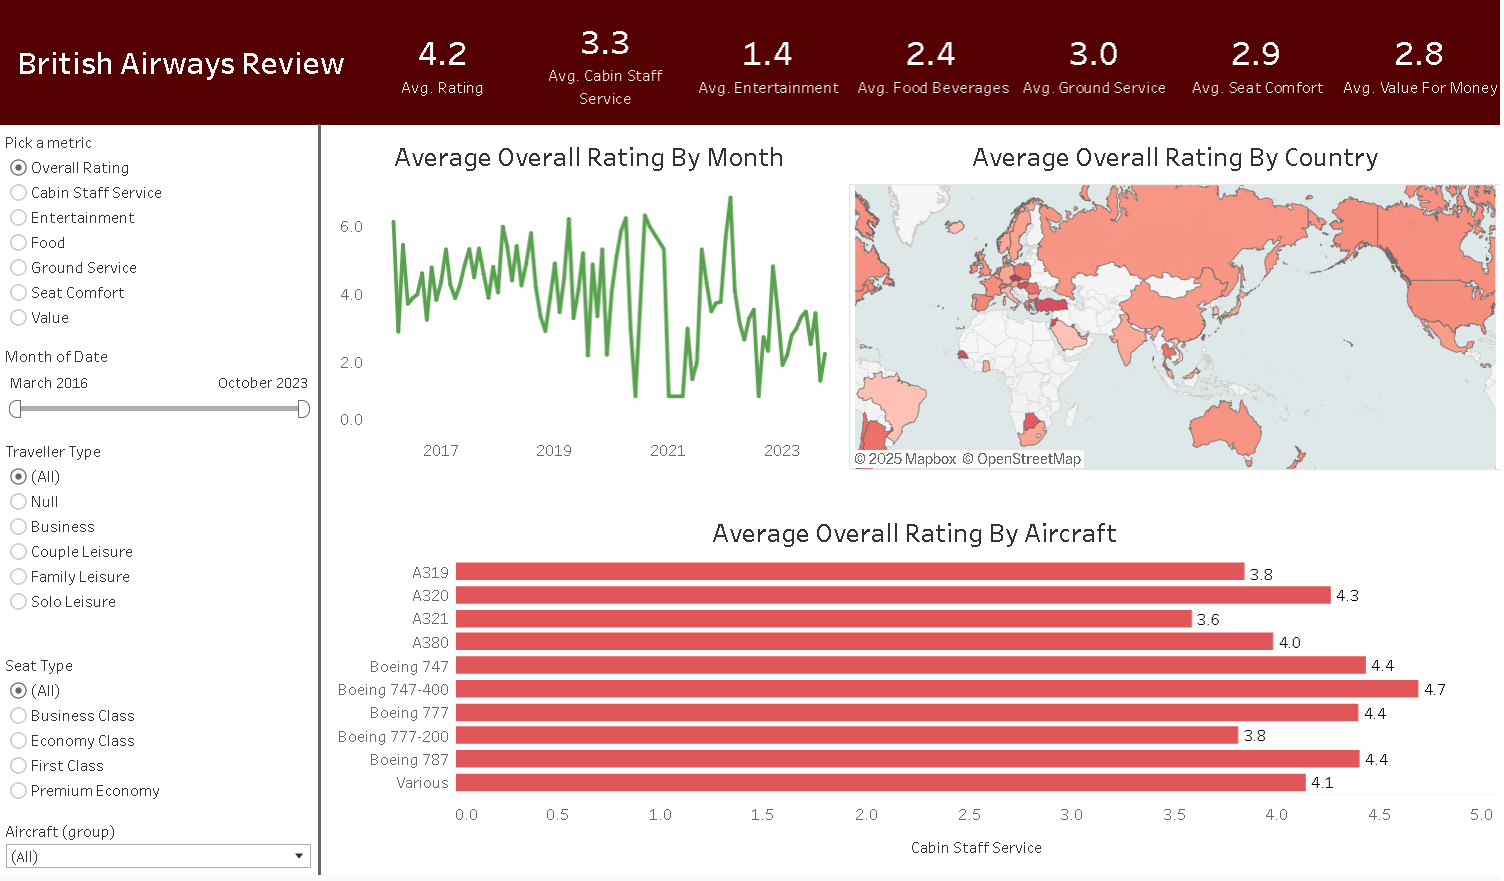

What the dashboard file says about the page in this screenshot:
{"tool":"tableau","page":{"name":"Dashboard 1","canvas":[1200,700],"ordinal":0},"visuals":[{"type":"text","box":[0,0,289,100]},{"type":"worksheet","title":"Summary","mark":"Automatic","box":[289,0,911,100]},{"type":"parameter","param":"[Parameters].[Parameter 1]","box":[0,101,254,171]},{"type":"worksheet","title":"Month","mark":"Automatic","rows":["Calculation_692428476964581376"],"cols":["date"],"box":[264,104,414,270]},{"type":"worksheet","title":"Map","mark":"Automatic","box":[679,104,524,272]},{"type":"filter","title":"Map","param":"[federated.1enboom112aacz1glg6wq0g30k16].[tmn:date:qk]","box":[0,272,254,76]},{"type":"filter","title":"Map","param":"[federated.1enboom112aacz1glg6wq0g30k16].[none:traveller_type:nk]","box":[0,348,254,171]},{"type":"worksheet","title":"Aircraft","mark":"Automatic","cols":["Calculation_692428476964581376"],"box":[264,405,935,287]},{"type":"filter","title":"Map","param":"[federated.1enboom112aacz1glg6wq0g30k16].[none:seat_type:nk]","box":[0,519,254,151]}]}

Visuals, with their boxes in screenshot pixels (x1, y1, x2, y2), scaled from the page's 1200x700 canvas onto the 1504x881 screenshot:
text: {"left": 0, "top": 0, "right": 362, "bottom": 126}
"Summary" worksheet: {"left": 362, "top": 0, "right": 1503, "bottom": 126}
parameter: {"left": 0, "top": 127, "right": 318, "bottom": 342}
"Month" worksheet: {"left": 331, "top": 131, "right": 850, "bottom": 471}
"Map" worksheet: {"left": 851, "top": 131, "right": 1503, "bottom": 473}
"Map" filter: {"left": 0, "top": 342, "right": 318, "bottom": 438}
"Map" filter: {"left": 0, "top": 438, "right": 318, "bottom": 653}
"Aircraft" worksheet: {"left": 331, "top": 510, "right": 1503, "bottom": 871}
"Map" filter: {"left": 0, "top": 653, "right": 318, "bottom": 843}
